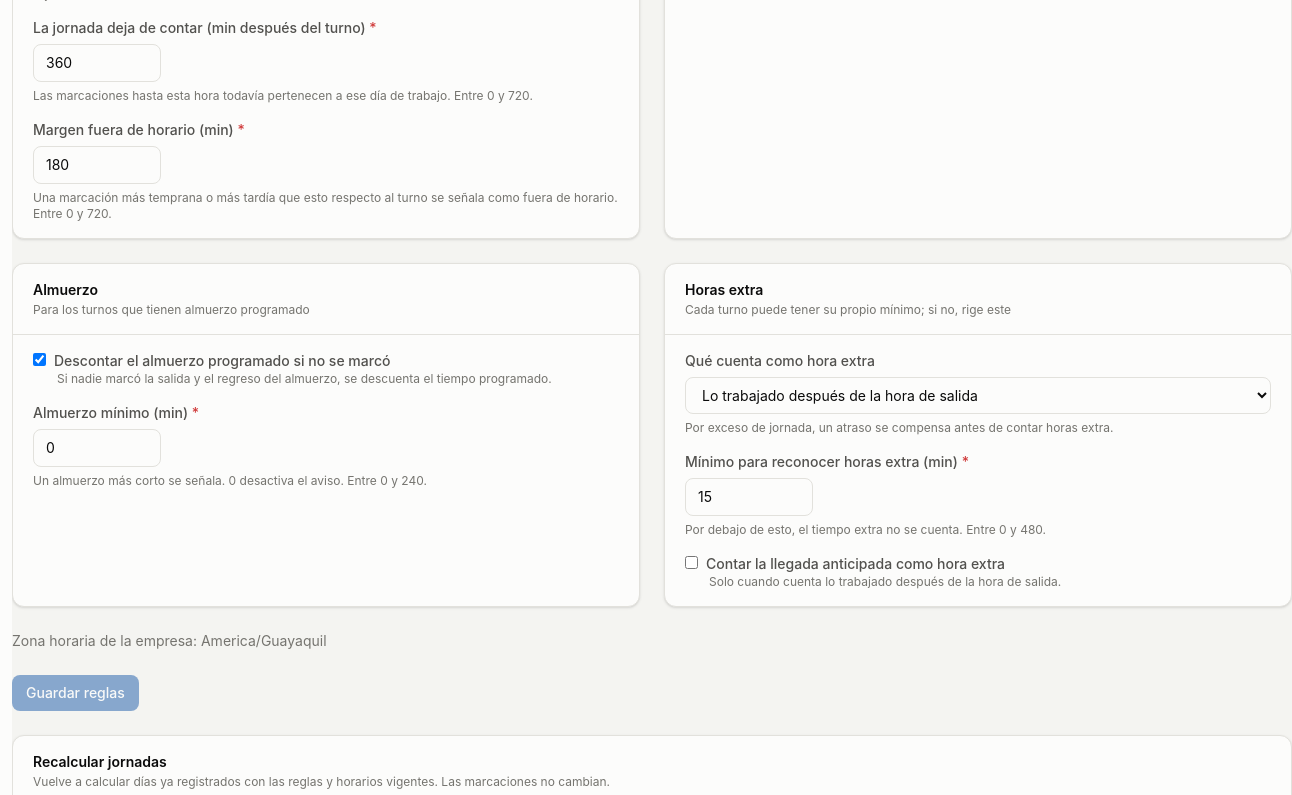
Test: SettingsPage › only counts early arrivals as overtime when overtime starts at the shift end
The image size is (1292, 795).
(page scrolled)
Check: the checkbox labelled "Contar la llegada anticipada como hora extra" is enabled, box [685,556,698,569]
Select "Lo trabajado por encima de la jornada" in the dropdown labelled "Qué cuenta como hora extra" at (978, 396), box [685,377,1271,414]
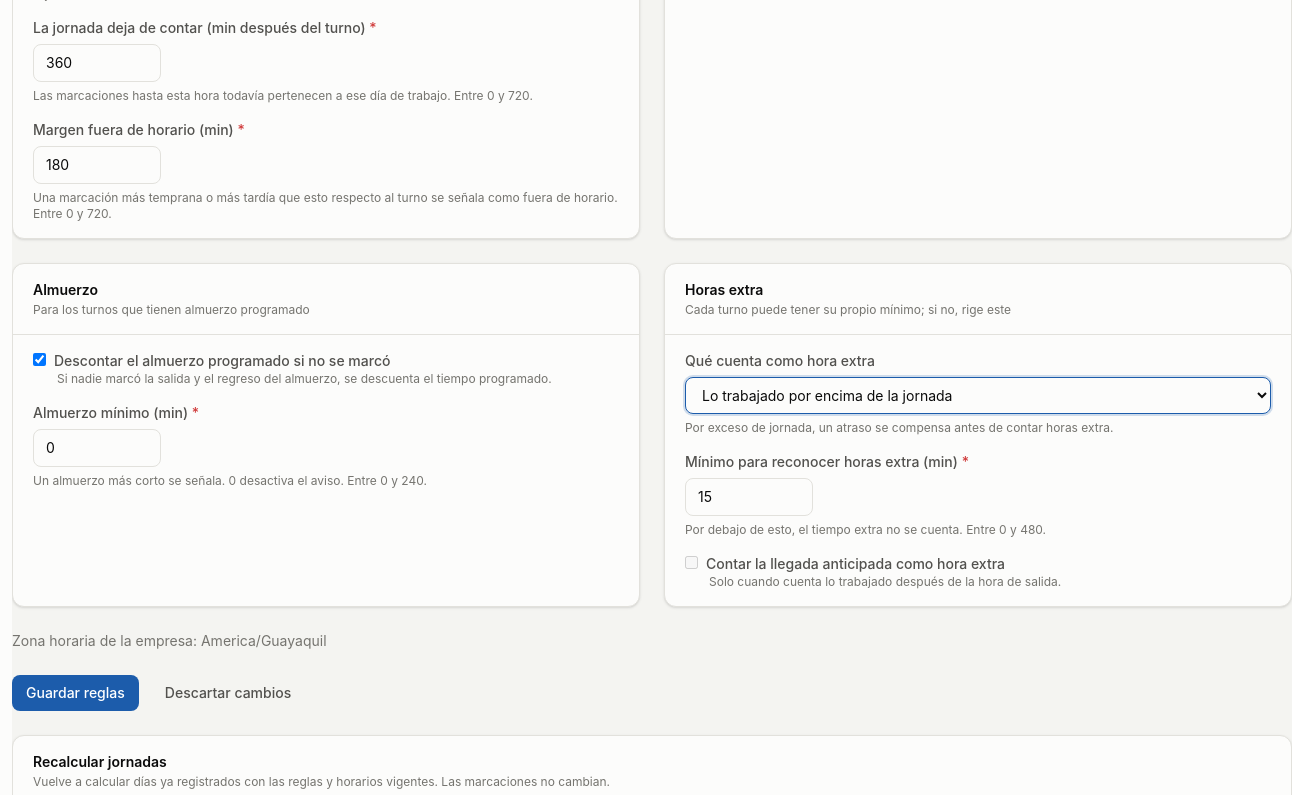
Check: the checkbox labelled "Contar la llegada anticipada como hora extra" is disabled, box [685,556,698,569]
